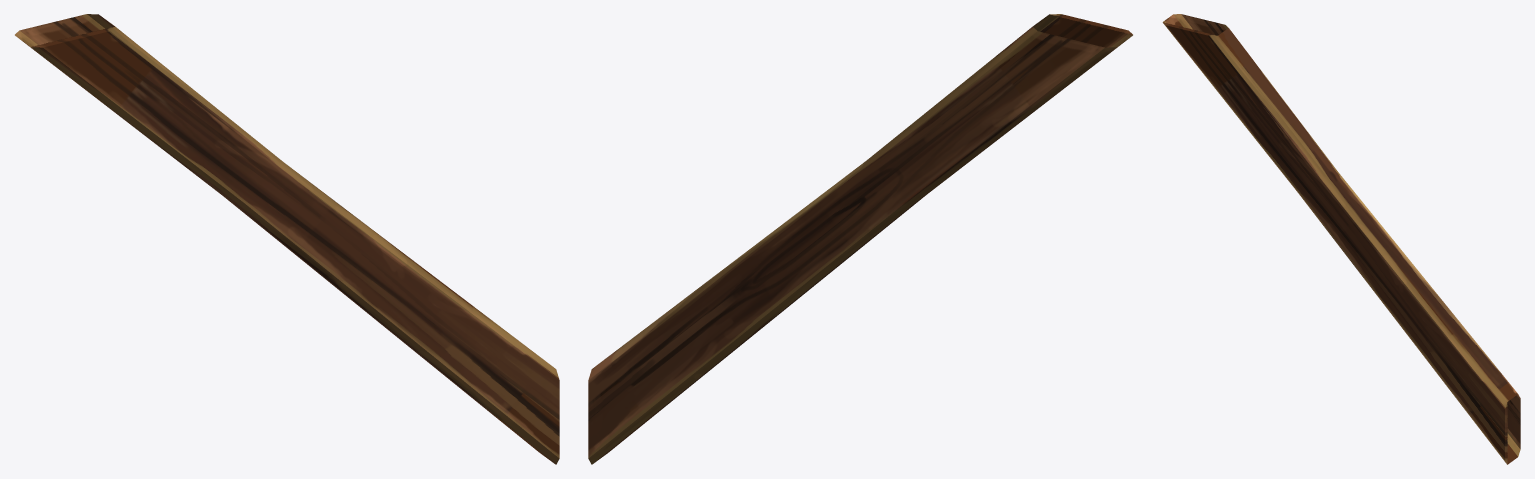
File: Wall_OBeam_Tavern_AB 2.fbx
3 views of the same model, side by side, from view 1: azimuth 30°, elevation 25°; view 2: azimuth 150°, elevation 25°; view 3: azimuth 330°, elevation 25° (orthographic). The views are drawn at different scales.
Parts seen in each view (by area): view 1: pCube60; view 2: pCube60; view 3: pCube60.
Boxes of the visible parts, box(x1,y1,x2,y2) form: pCube60: box(15, 14, 559, 464); pCube60: box(588, 14, 1132, 464); pCube60: box(1162, 14, 1520, 464).
Size of the model in its own units: 228 by 227 by 17.65.
